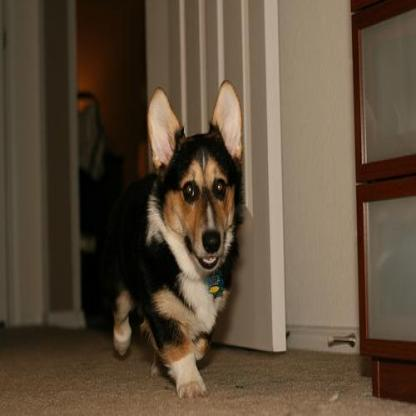Pembroke: (96, 77, 244, 402)
